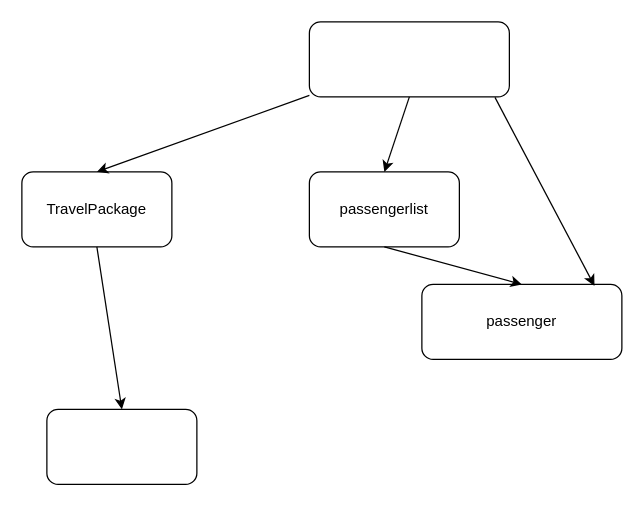
This 644x506 diagram has some shape labels left out. Each missing label, with the box of its shape:
acttivities: (46, 408, 197, 484)
TravelagencyApplication: (308, 21, 509, 97)
